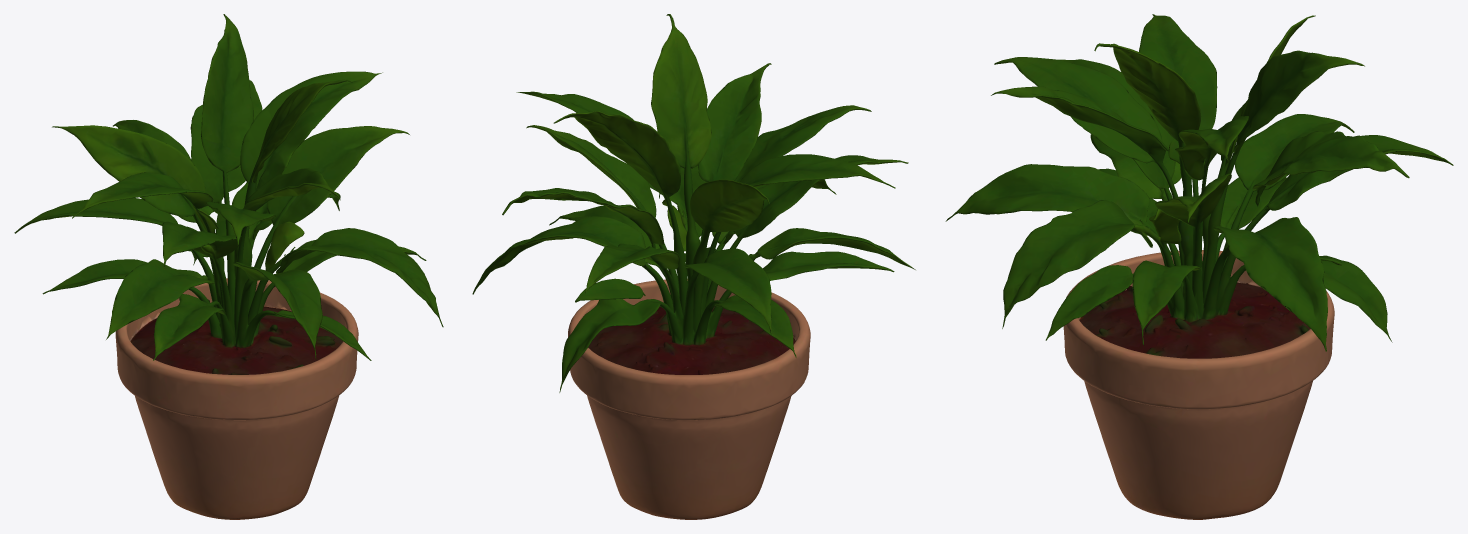
The model's file is planta.glb.
The picture shows the model from 3 angles, left to right: view 1: azimuth 30°, elevation 25°; view 2: azimuth 150°, elevation 25°; view 3: azimuth 270°, elevation 25°; orthographic projection. The views are drawn at different scales.
Visible parts, largest first — view 1: tripo_node_395c2856-2b83-4471-b447-ad69a138af56; view 2: tripo_node_395c2856-2b83-4471-b447-ad69a138af56; view 3: tripo_node_395c2856-2b83-4471-b447-ad69a138af56.
Boxes of the visible parts, x1,y1,x2,y2 form: tripo_node_395c2856-2b83-4471-b447-ad69a138af56: [14, 14, 443, 519]; tripo_node_395c2856-2b83-4471-b447-ad69a138af56: [472, 14, 915, 519]; tripo_node_395c2856-2b83-4471-b447-ad69a138af56: [945, 14, 1453, 519].
Bounding box in the file's own units: 0.8627 × 1 × 0.96.
Materials: 1 (1 with a texture image).
